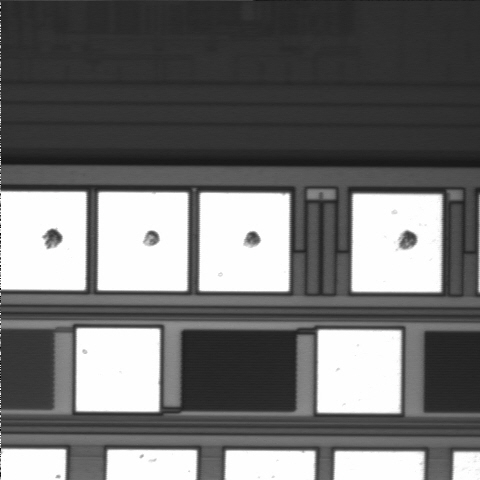pad: (98, 192, 188, 291), (199, 193, 289, 291), (352, 194, 442, 292), (76, 328, 160, 412), (317, 330, 401, 413)
